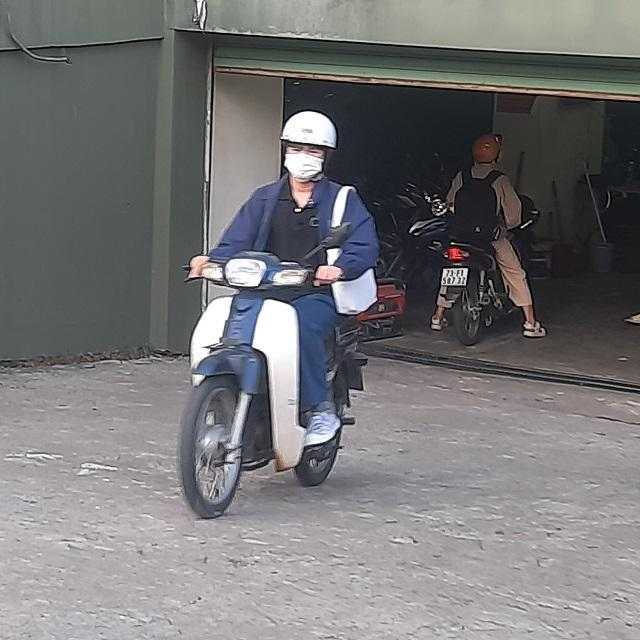Helmet: (276, 108, 340, 178)
